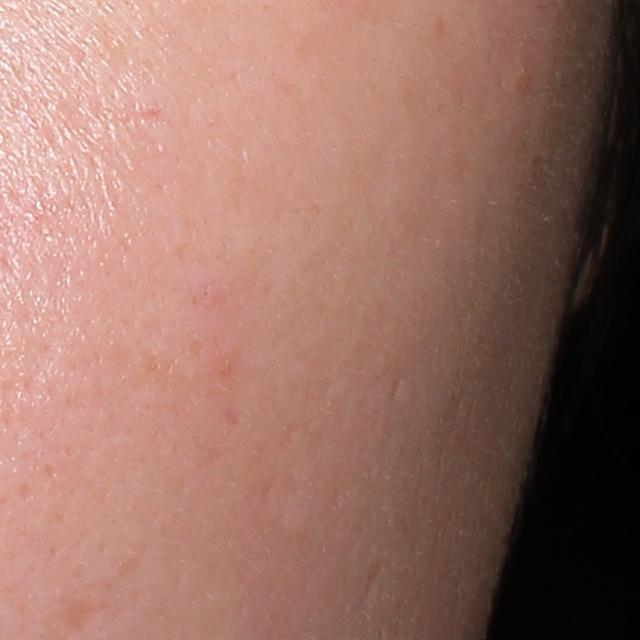atrophic_scar: (59, 589, 111, 639), (385, 370, 412, 412)
